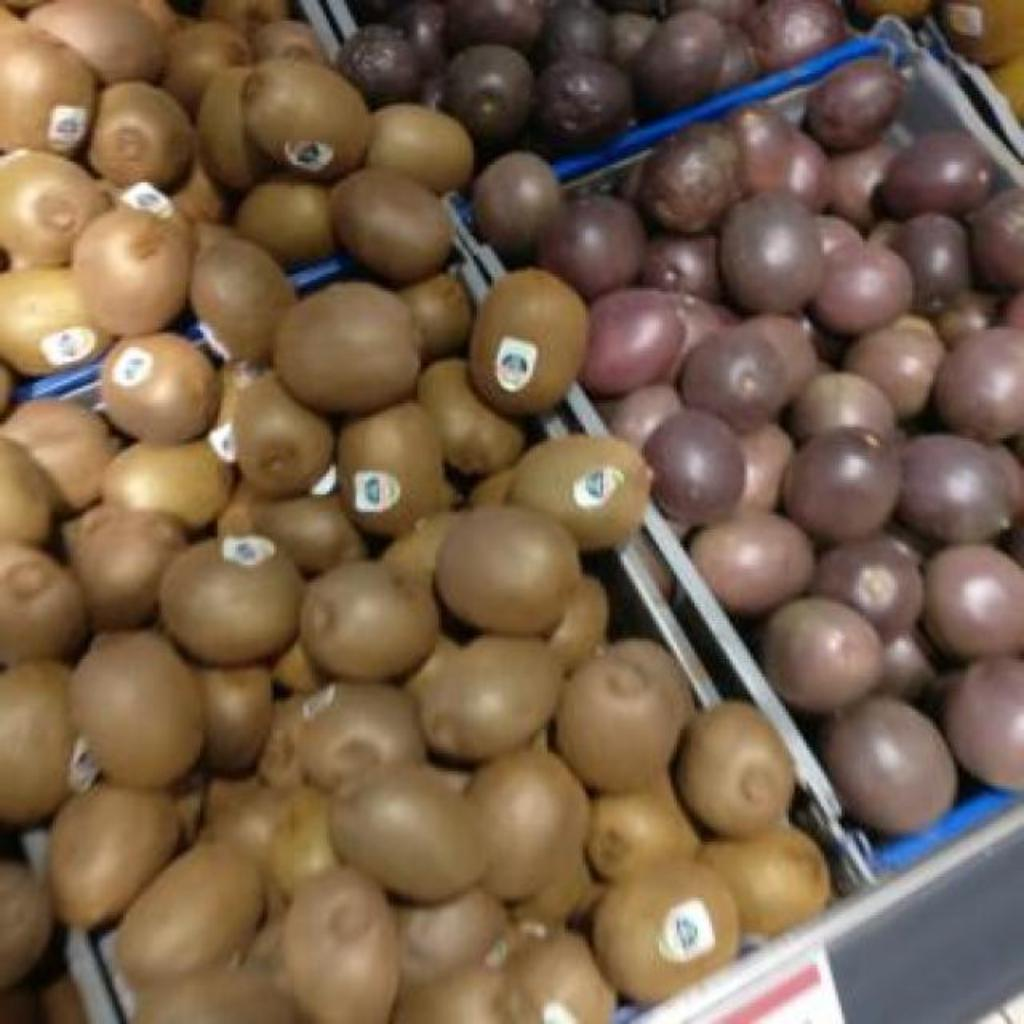kiwi: (116, 842, 264, 985), (332, 766, 486, 903), (558, 640, 694, 793), (70, 632, 202, 789), (596, 862, 738, 1003), (412, 636, 562, 761), (48, 786, 180, 927), (436, 506, 580, 635), (278, 282, 418, 414), (162, 536, 302, 665), (284, 868, 398, 1024), (470, 268, 586, 415), (468, 748, 576, 902), (302, 560, 436, 681), (508, 436, 650, 549), (678, 702, 794, 837), (72, 206, 192, 335), (64, 504, 186, 629), (340, 402, 448, 536), (700, 826, 832, 935), (244, 62, 364, 179), (332, 168, 452, 283), (0, 150, 112, 269), (102, 332, 220, 443), (302, 682, 424, 789), (190, 238, 296, 361), (0, 22, 96, 153), (0, 402, 116, 509), (234, 374, 334, 497), (0, 660, 74, 825), (418, 358, 524, 473), (0, 268, 110, 375), (28, 0, 164, 83), (107, 440, 232, 529), (586, 782, 698, 879), (88, 84, 190, 189), (401, 888, 506, 987), (0, 542, 84, 663), (366, 104, 472, 193), (132, 968, 298, 1024), (510, 938, 614, 1023), (256, 498, 366, 573), (200, 776, 286, 871), (236, 180, 334, 263), (198, 666, 272, 775), (164, 22, 250, 113), (270, 786, 340, 897), (0, 862, 52, 987), (394, 968, 509, 1024), (400, 274, 470, 361), (548, 574, 608, 669), (0, 438, 54, 543), (382, 512, 457, 587), (200, 68, 252, 175), (254, 20, 324, 62), (203, 1, 288, 35)
